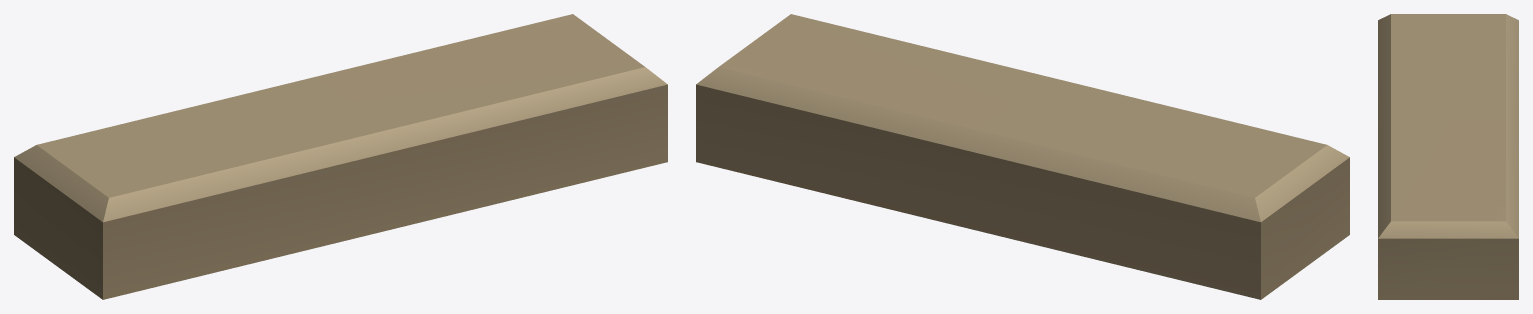
The model's file is bord_bois.glb.
The picture shows the model from 3 angles, left to right: view 1: azimuth 30°, elevation 25°; view 2: azimuth 150°, elevation 25°; view 3: azimuth 270°, elevation 25°; orthographic projection. The views are drawn at different scales.
Parts seen in each view (by area): view 1: bord_bois; view 2: bord_bois; view 3: bord_bois.
Part boxes in pixels (x1,y1,x2,y2): bord_bois: [14, 14, 667, 299]; bord_bois: [696, 14, 1349, 299]; bord_bois: [1378, 14, 1518, 299].
Bounding box in the file's own units: 1.98 × 0.3099 × 0.54.
